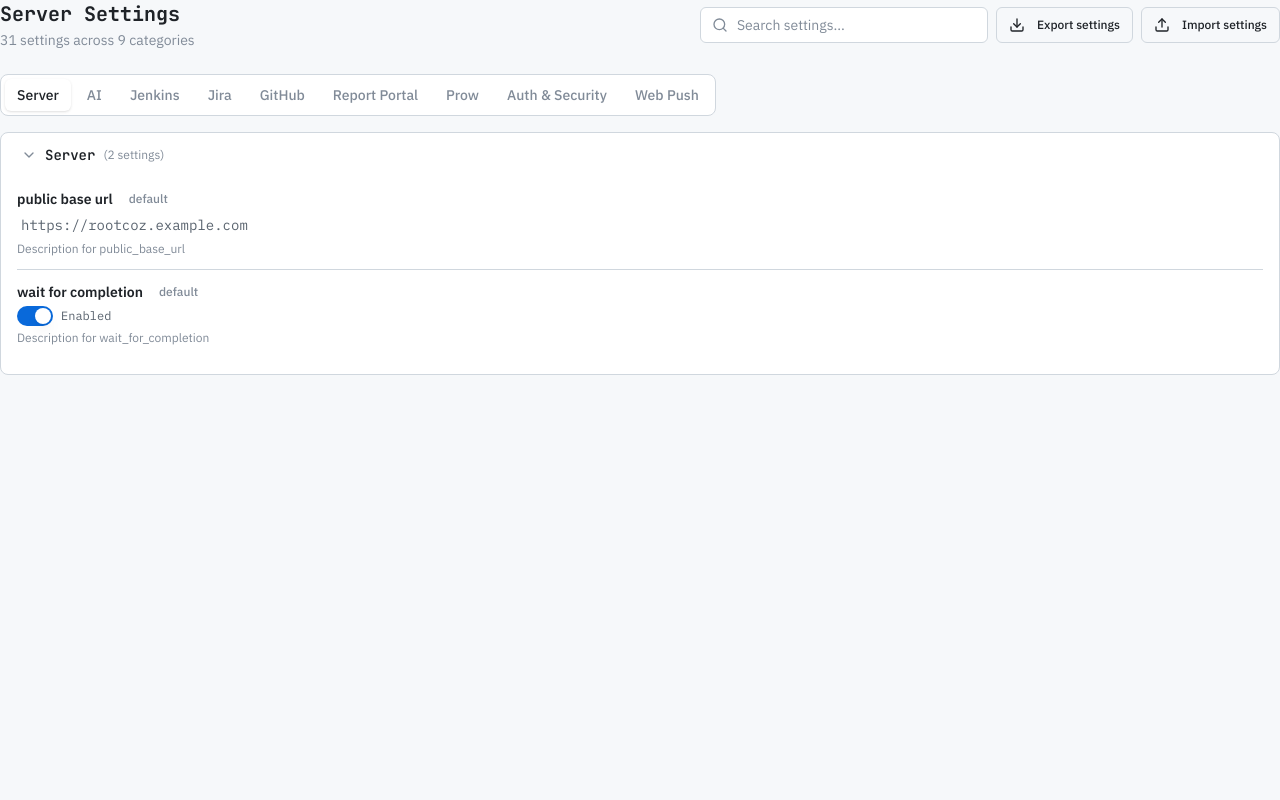
Test: ServerSettingsPage Jira auth method selection › checkbox state reflects the persisted jira_auth_mode value and shows only that method's fields
What coordinates should you click on to do the following:
click the tab "Jira"
I would click on:
 (220, 95)
Its box is [196,79,244,111].
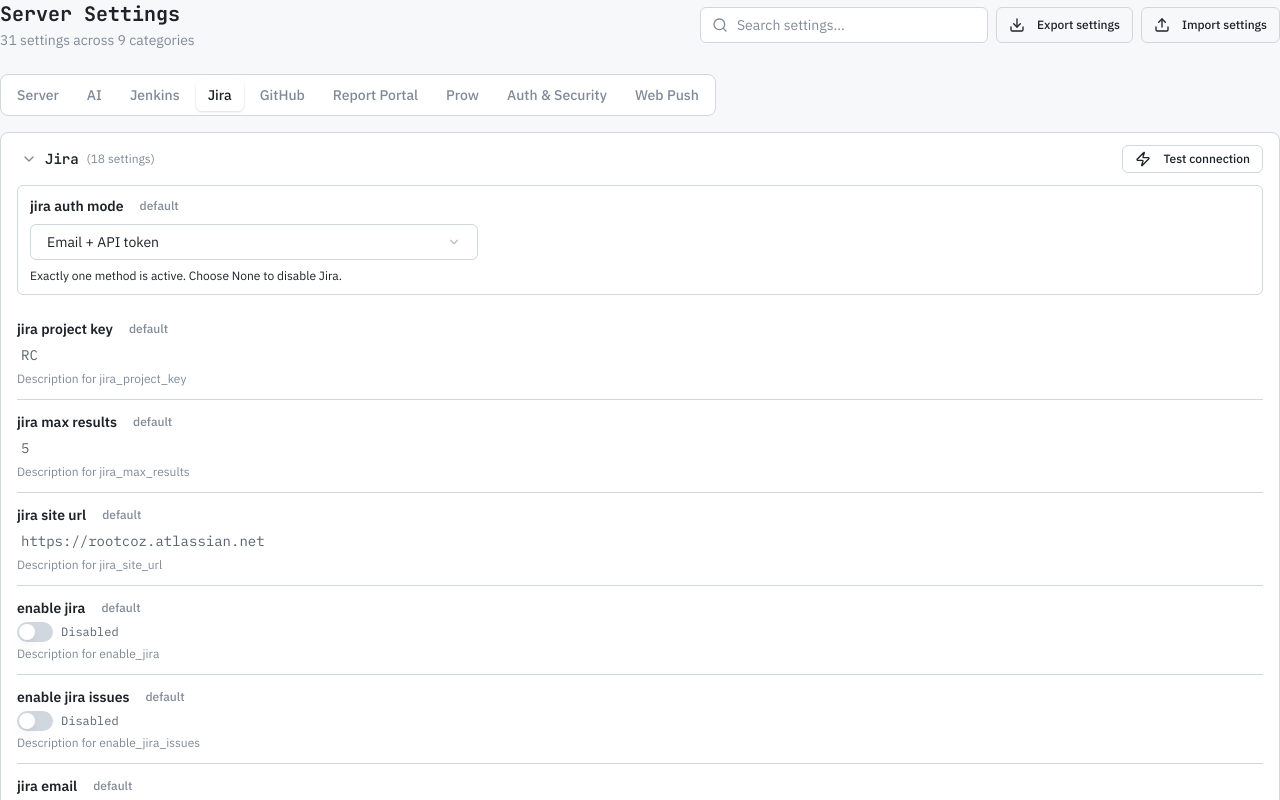
Expected: the dropdown named "Select Jira auth method" reads "Email + API token", [30,224,478,260]
Expected: the switch named "Toggle ENABLE_JIRA" is shown, [17,622,53,642]
Expected: the switch named "Toggle ENABLE_JIRA_ISSUES" is shown, [17,711,53,731]
